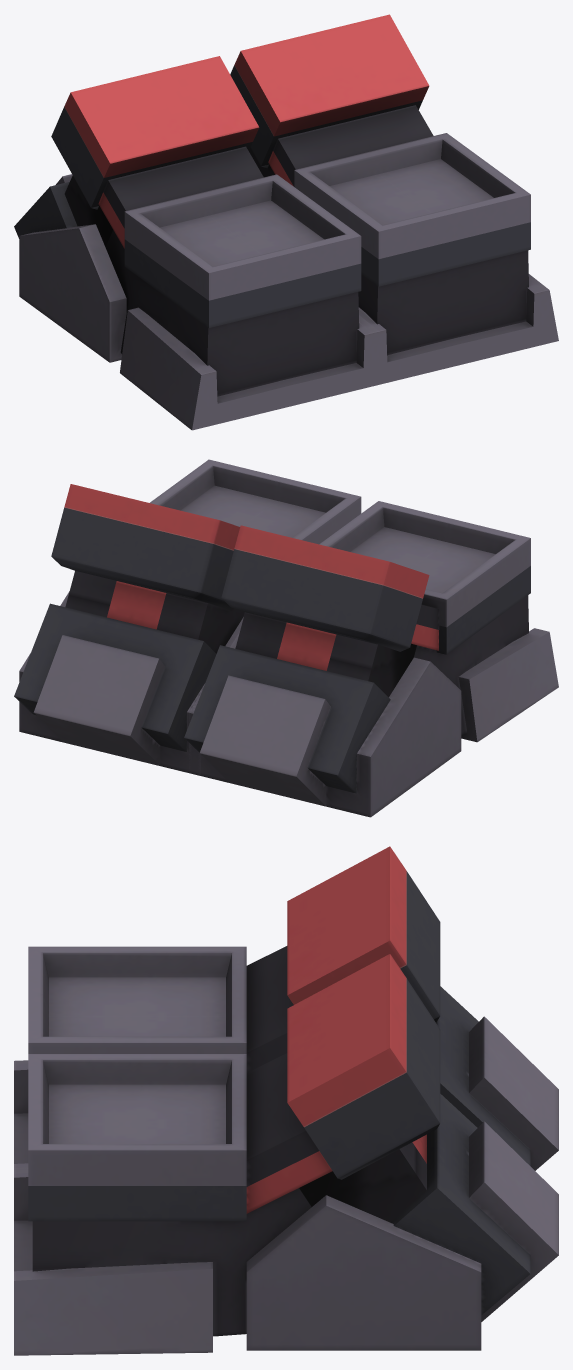
Rendered from D25_SHOE_xiezi5_1.FBX.
The picture shows the model from 3 angles, top to bottom: view 1: azimuth 30°, elevation 25°; view 2: azimuth 150°, elevation 25°; view 3: azimuth 270°, elevation 25°; orthographic projection. The views are drawn at different scales.
Parts seen in each view (by area): view 1: D25_SHOE_xiezi5_1; view 2: D25_SHOE_xiezi5_1; view 3: D25_SHOE_xiezi5_1.
Part boxes in pixels (<box>): D25_SHOE_xiezi5_1: <box>14,14,558,430</box>; D25_SHOE_xiezi5_1: <box>14,459,558,817</box>; D25_SHOE_xiezi5_1: <box>14,846,558,1355</box>.
Size of the model in its own units: 62.97 by 37.06 by 62.55.
